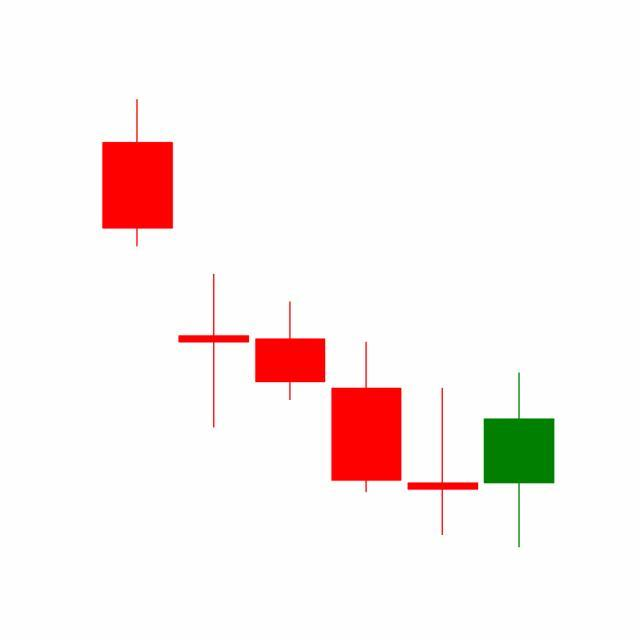Morning Doji Star: (326, 339, 555, 549)
